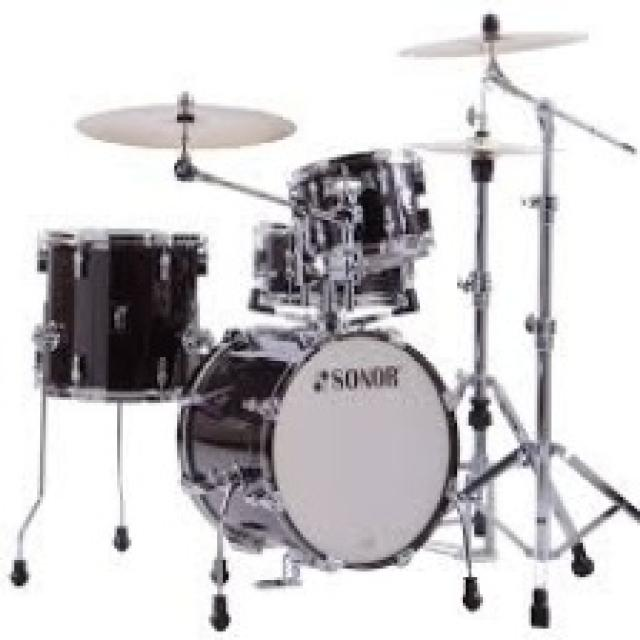drums: (8, 14, 640, 628)
